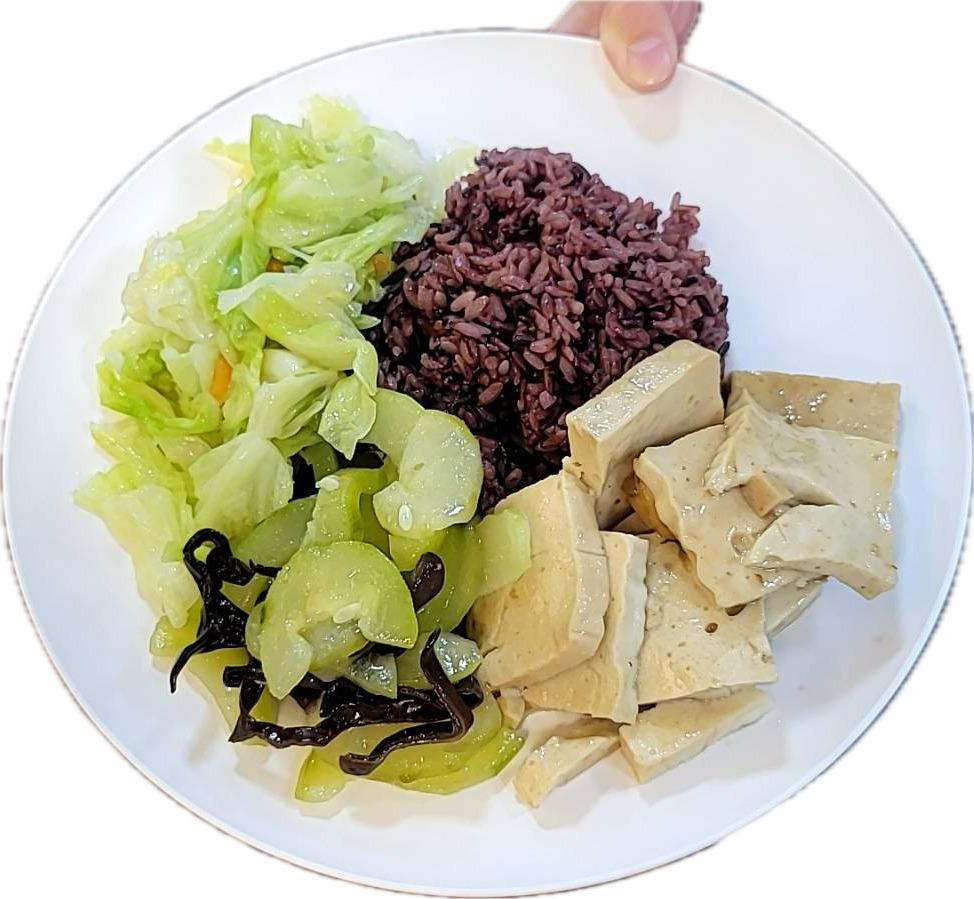big fried chicken leg: (4, 20, 974, 890)
braised fish: (380, 148, 735, 473)
braised fish fillet: (481, 332, 922, 807), (166, 392, 518, 813), (83, 108, 426, 530)
